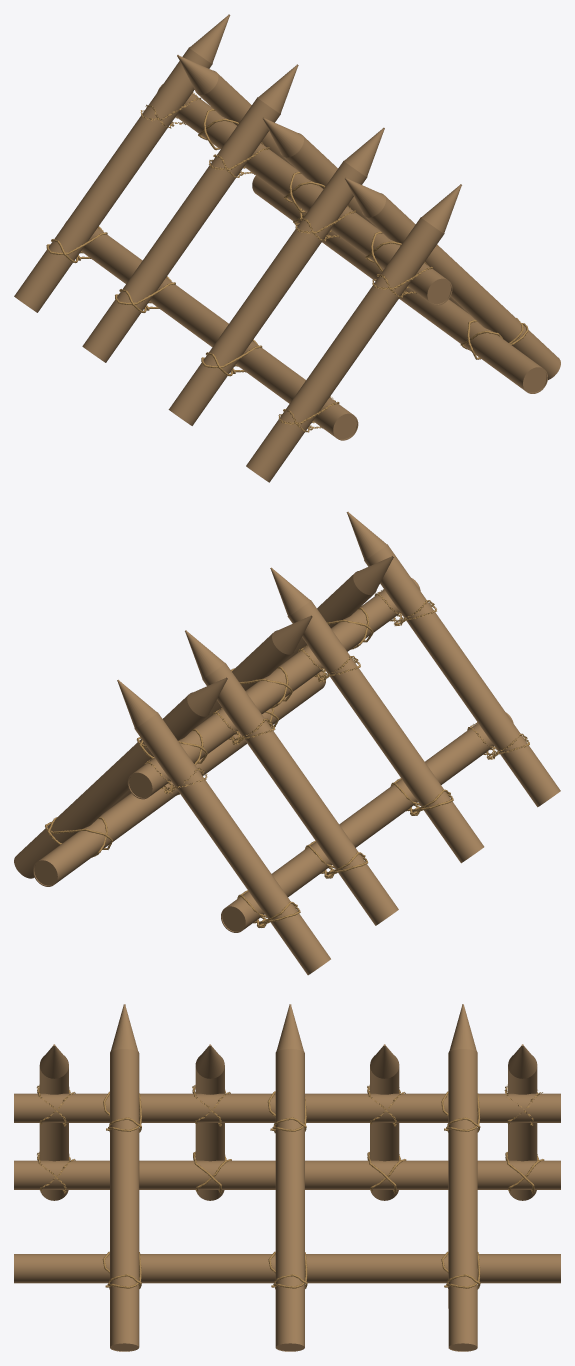
Rendered from palisadebarrier-flat-lite.glb.
The picture shows the model from 3 angles, top to bottom: view 1: azimuth 30°, elevation 25°; view 2: azimuth 150°, elevation 25°; view 3: azimuth 270°, elevation 25°; orthographic projection.
Visible parts, largest first — view 1: 1.003, 1.008, 1.006, 1.002, Cylinder.003, Cylinder.002, Cylinder.001, 1.009, 1.005, 1.007; view 2: 1.002, 1.006, 1.008, 1.003, Cylinder.003, Cylinder.002, 1.005, Cylinder.001, 1.007, 1.009; view 3: Cylinder.001, Cylinder.002, Cylinder.003, 1.005, 1.007, 1.009, 1.002, 1.008, 1.006, 1.003.
Boxes of the visible parts, x1,y1,x2,y2 form: 1.003: (246, 184, 461, 482); 1.008: (82, 64, 298, 362); 1.006: (168, 127, 384, 425); 1.002: (14, 14, 230, 312); Cylinder.003: (64, 221, 358, 440); Cylinder.002: (157, 84, 452, 305); Cylinder.001: (252, 175, 547, 393); 1.009: (344, 177, 560, 379); 1.005: (177, 55, 294, 167); 1.007: (262, 117, 468, 313); 1.002: (117, 679, 330, 975); 1.006: (270, 567, 484, 863); 1.008: (185, 630, 398, 925); 1.003: (346, 511, 560, 807); Cylinder.003: (221, 712, 513, 932); Cylinder.002: (127, 578, 420, 799); 1.005: (14, 677, 228, 878); Cylinder.001: (33, 671, 325, 886); 1.007: (105, 615, 312, 811); 1.009: (281, 555, 394, 664); Cylinder.001: (14, 1254, 560, 1283); Cylinder.002: (14, 1093, 560, 1122); Cylinder.003: (14, 1160, 560, 1189); 1.005: (448, 1004, 477, 1351); 1.007: (275, 1004, 304, 1351); 1.009: (110, 1004, 139, 1351); 1.002: (508, 1044, 537, 1200); 1.008: (370, 1044, 399, 1200); 1.006: (195, 1044, 224, 1200); 1.003: (39, 1044, 68, 1200).
Size of the model in its own units: 27.47 by 19.03 by 37.34.
